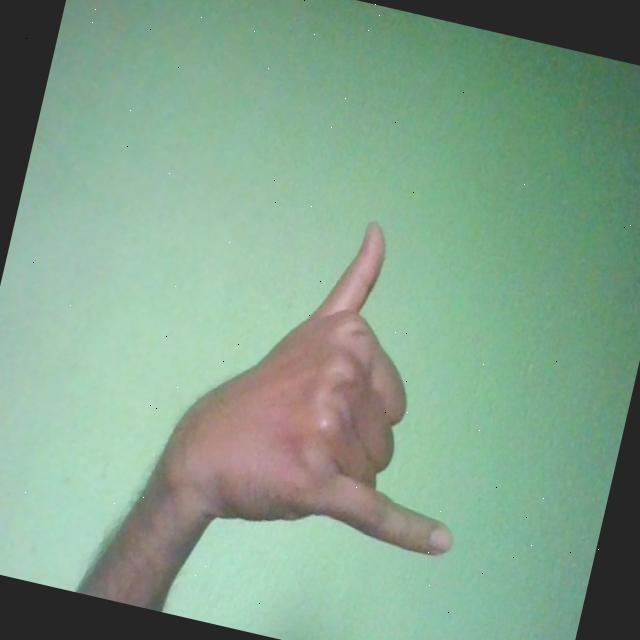Call Me: (149, 185, 520, 572)
